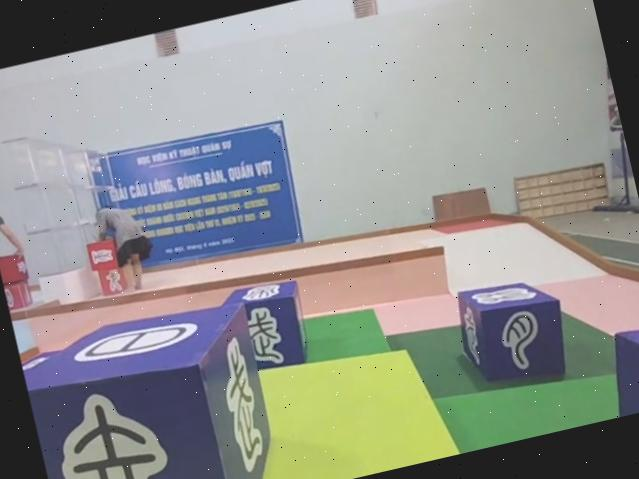R2 Fake Blue: (15, 290, 287, 479), (450, 269, 574, 394), (218, 274, 318, 382)
